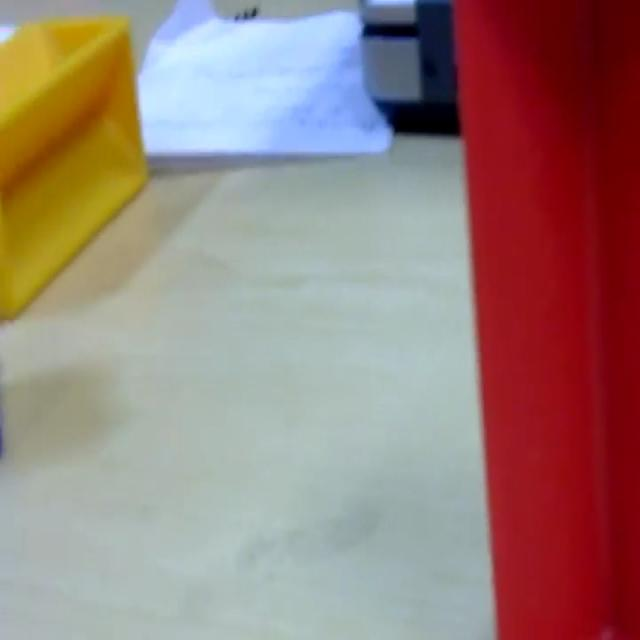red_block: (452, 1, 638, 636)
yellow_block: (0, 13, 148, 320)
